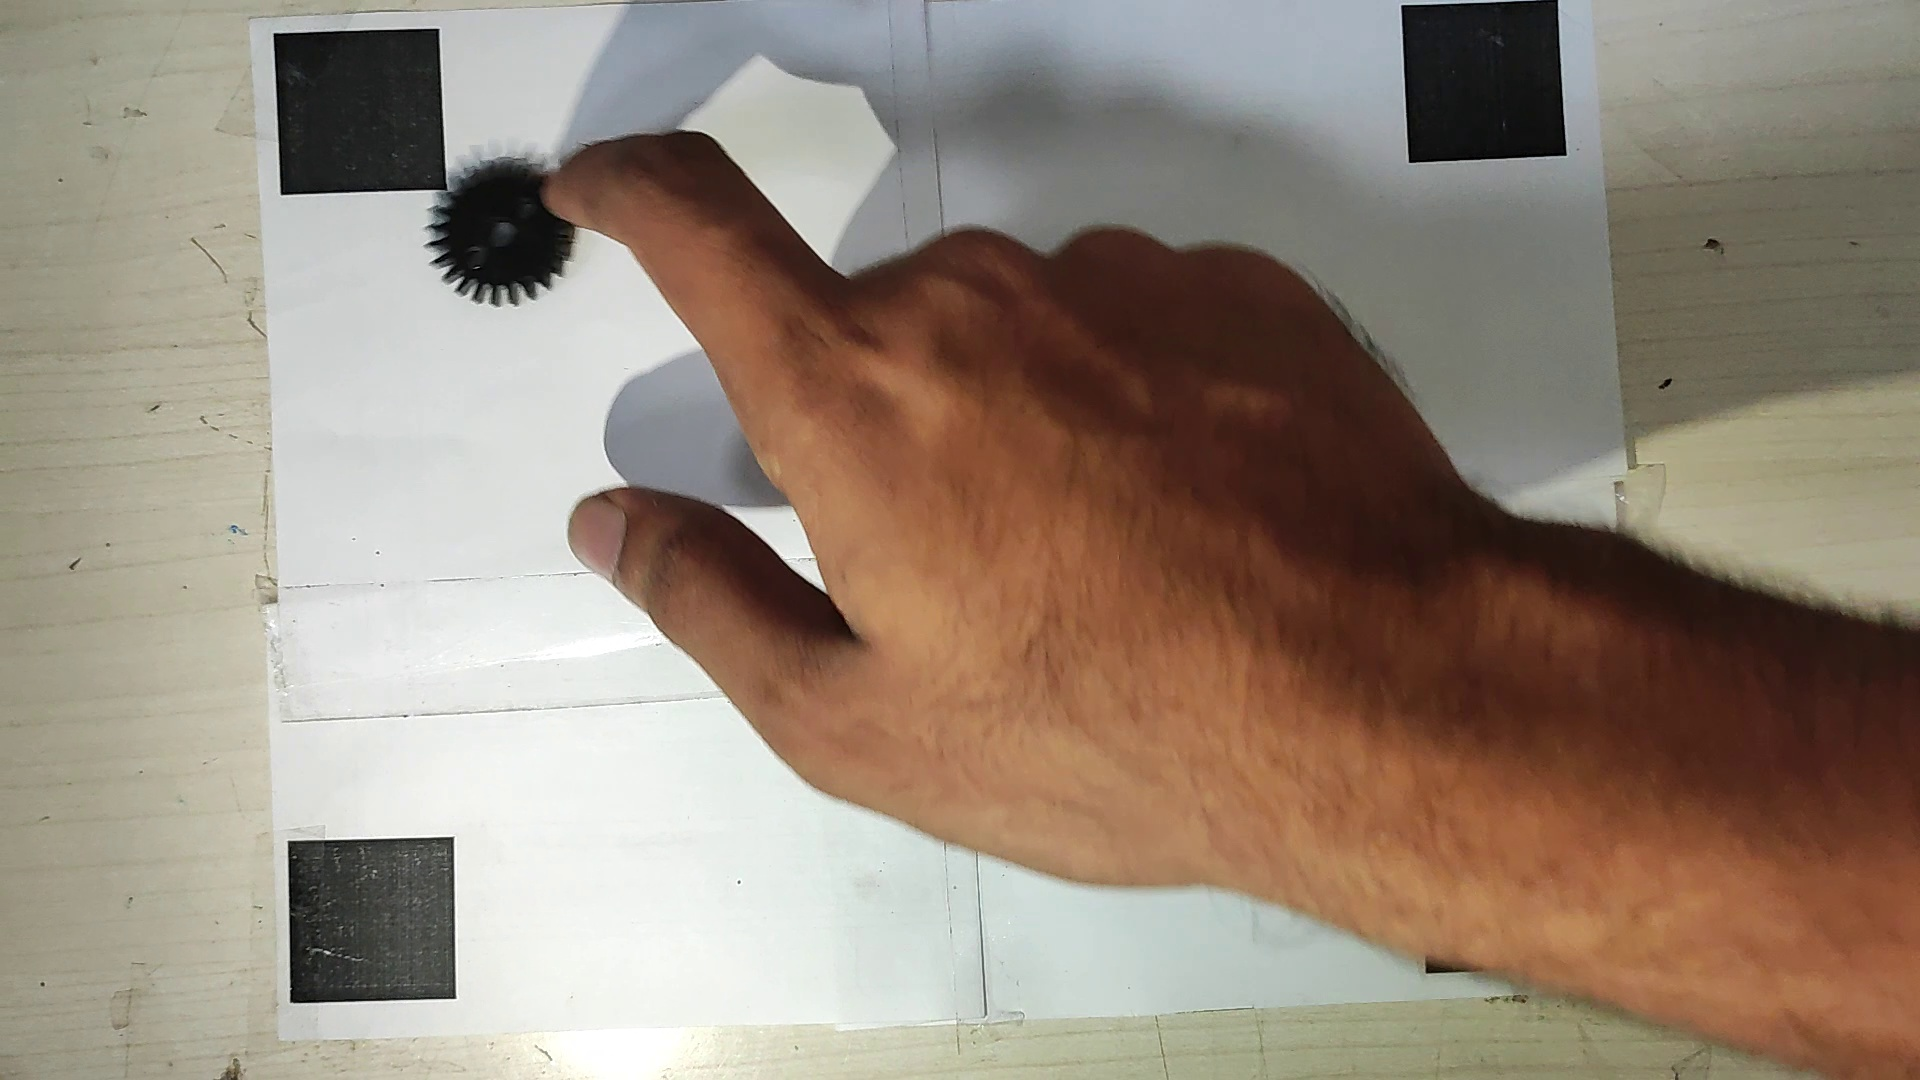Gear: (422, 137, 587, 311)
